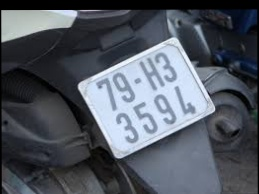Bien-so: (81, 27, 229, 156)
